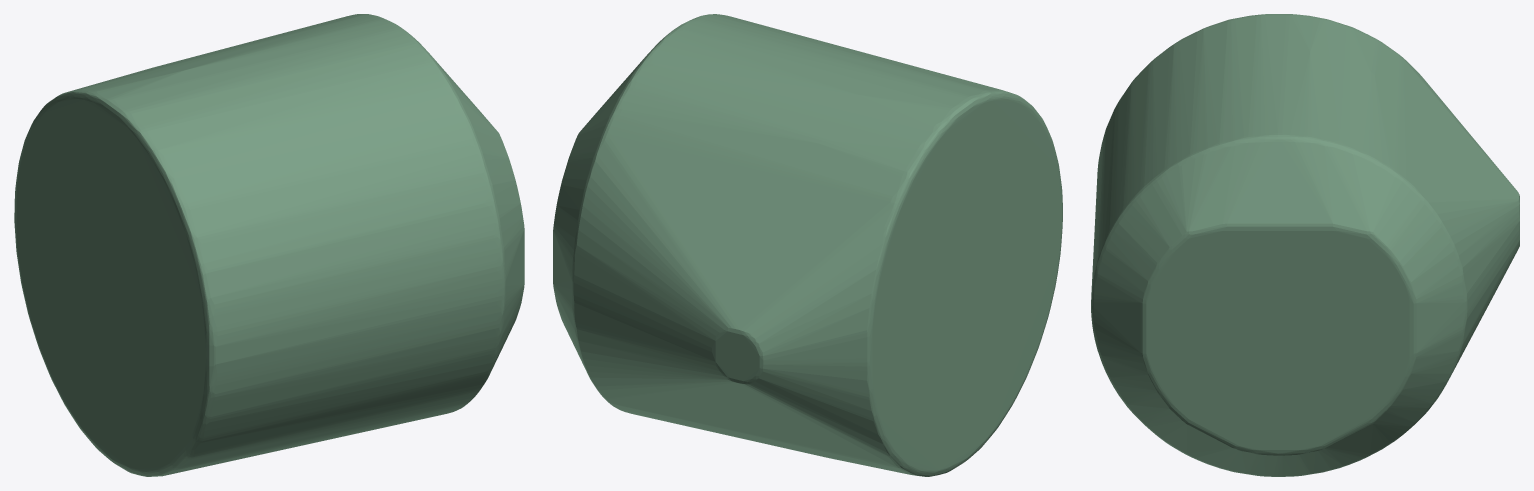
Rendered from arm_l8.obj.
The picture shows the model from 3 angles, left to right: view 1: azimuth 30°, elevation 25°; view 2: azimuth 150°, elevation 25°; view 3: azimuth 270°, elevation 25°; orthographic projection. The views are drawn at different scales.
Parts seen in each view (by area): view 1: geometry_0; view 2: geometry_0; view 3: geometry_0.
Boxes of the visible parts, x1,y1,x2,y2 form: geometry_0: (14,14,524,476); geometry_0: (553,14,1062,476); geometry_0: (1091,14,1519,476).
Bounding box in the file's own units: 0.0572 × 0.0597 × 0.068.
